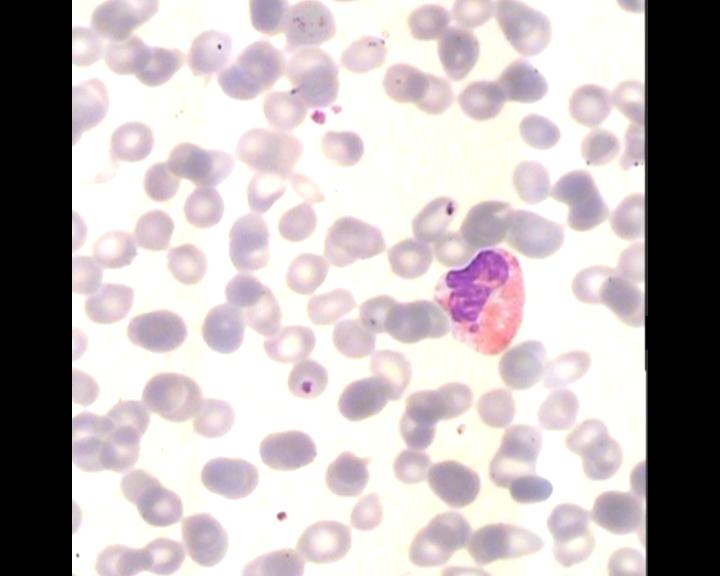eosi: (429, 245, 526, 354)
